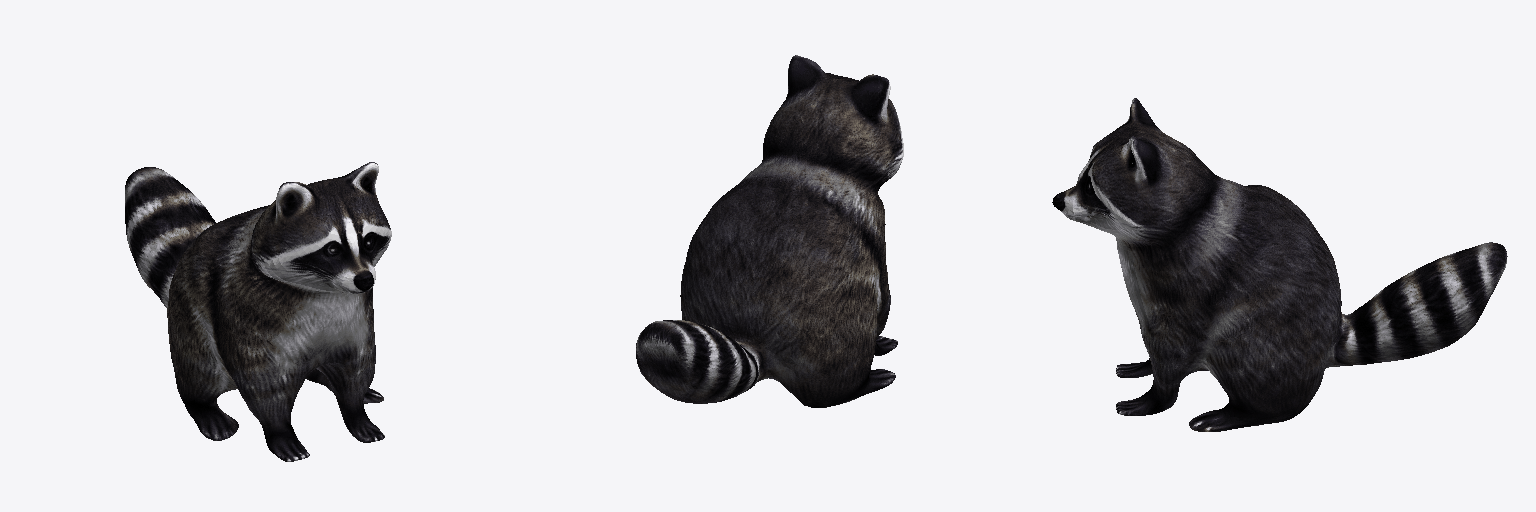
The picture shows the model from 3 angles: view 1: azimuth 30°, elevation 25°; view 2: azimuth 150°, elevation 25°; view 3: azimuth 270°, elevation 25°; orthographic projection.
Parts seen in each view (by area): view 1: Raccoon_Quad; view 2: Raccoon_Quad; view 3: Raccoon_Quad.
Part boxes in pixels (bbox=[...]): Raccoon_Quad: bbox=[125, 162, 391, 461]; Raccoon_Quad: bbox=[636, 55, 903, 407]; Raccoon_Quad: bbox=[1052, 98, 1507, 431].
Size of the model in its own units: 0.2375 by 0.3524 by 0.5327.
1 materials, 1 textured.